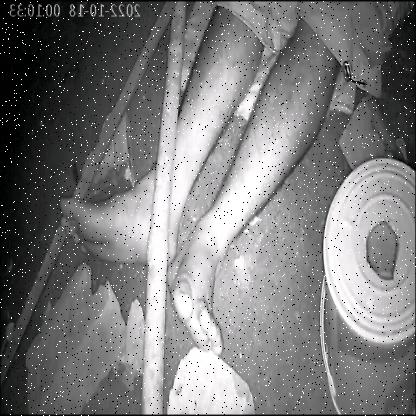leg: (164, 60, 286, 372), (16, 60, 180, 261)
